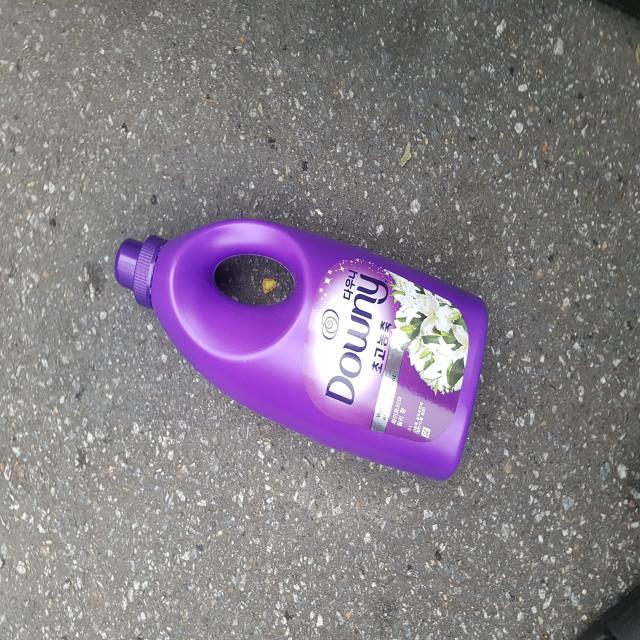bottle: (112, 98, 486, 490)
